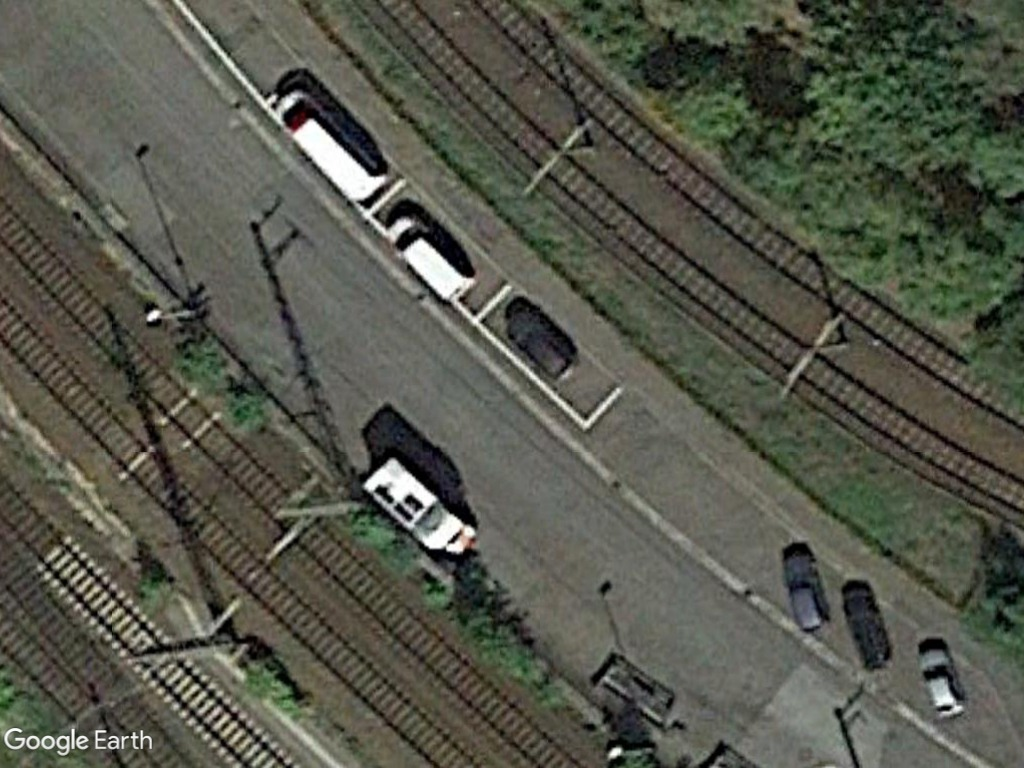car: (778, 545, 835, 636), (917, 640, 968, 721)
other: (352, 444, 486, 568)
van: (262, 69, 400, 216), (373, 206, 492, 312)
